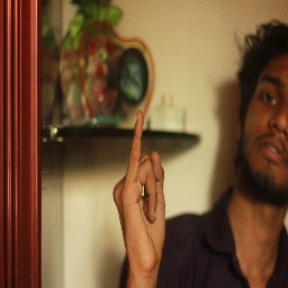I: (113, 107, 173, 276)
